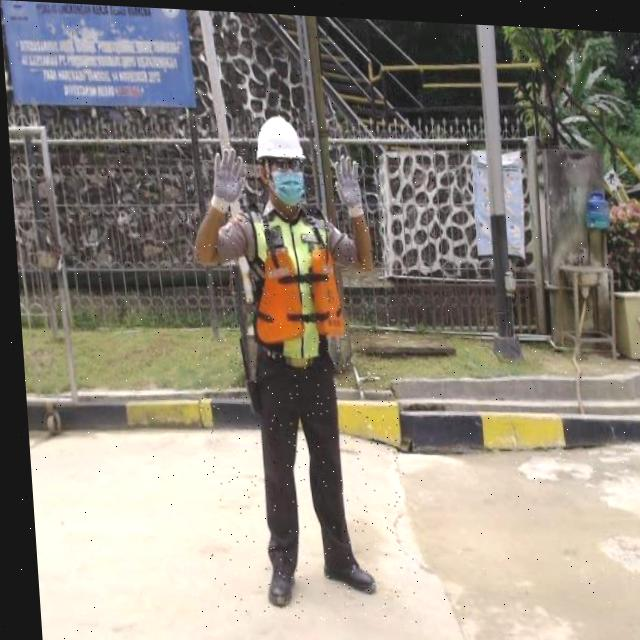Gloves: (204, 142, 245, 211), (329, 150, 360, 214)
Helmet: (251, 111, 303, 160)
Safety-Vest: (240, 201, 343, 362)
